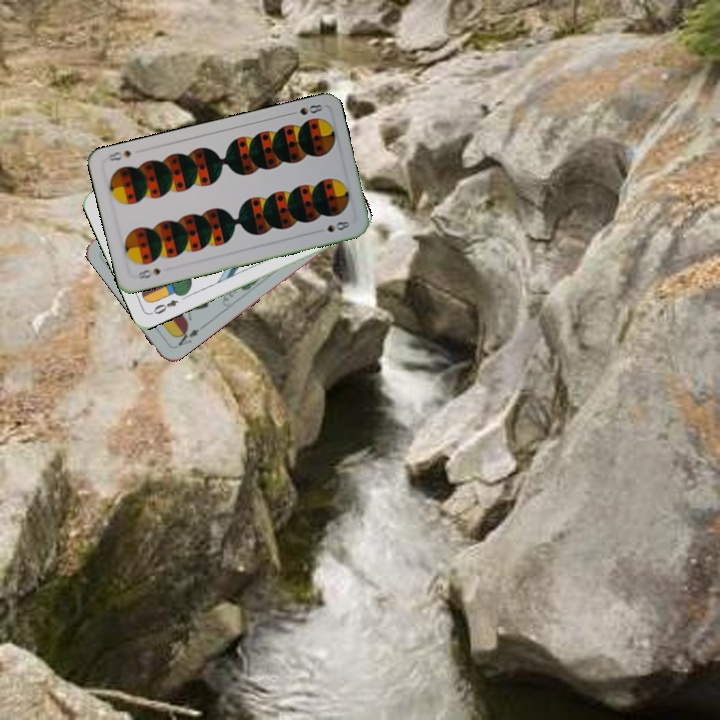EA: (171, 321, 207, 348)
EO: (147, 296, 181, 317)
S8: (285, 100, 326, 118), (134, 264, 163, 282)
